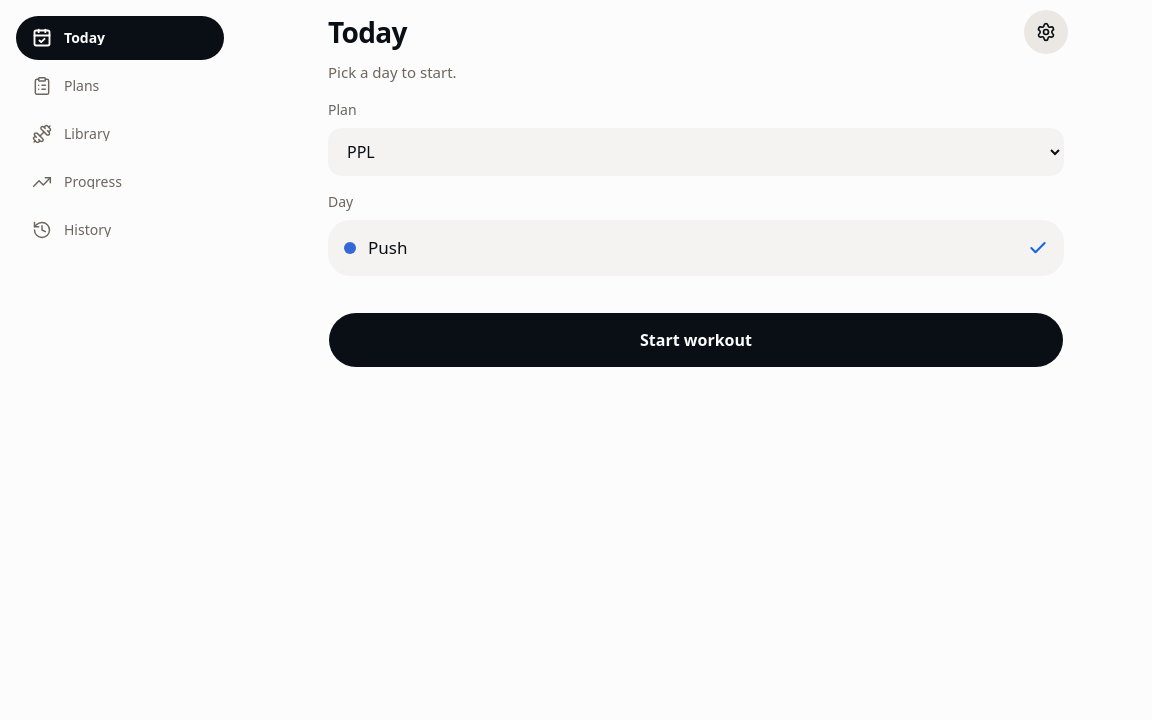
it: Today renders a superset as one block with sets interleaved in seq order
Click the button "Start workout".
click(696, 340)  # box [328,312,1064,368]
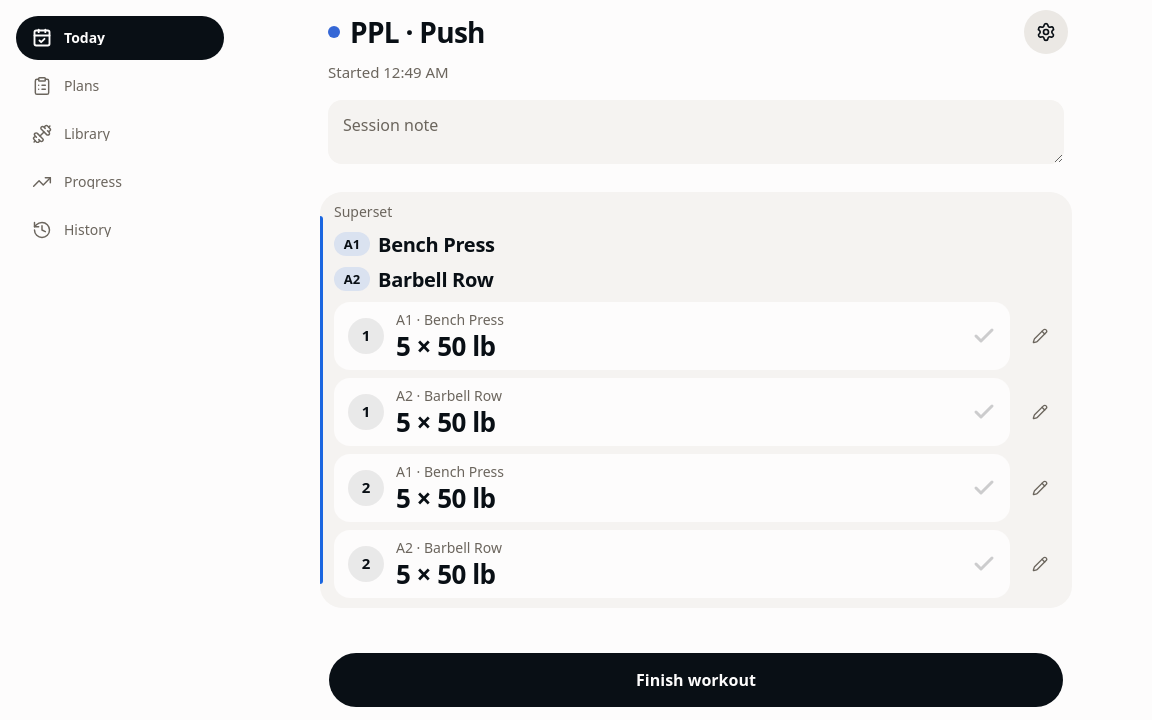
expect the text "Superset" is shown: met, box [334,202,392,220]
expect the heading "Overhead Press" is shown: met, box [328,634,480,662]
